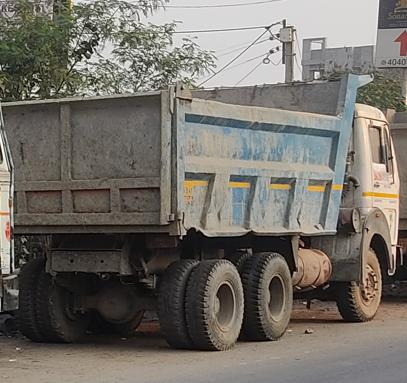Truck: (3, 26, 390, 336)
